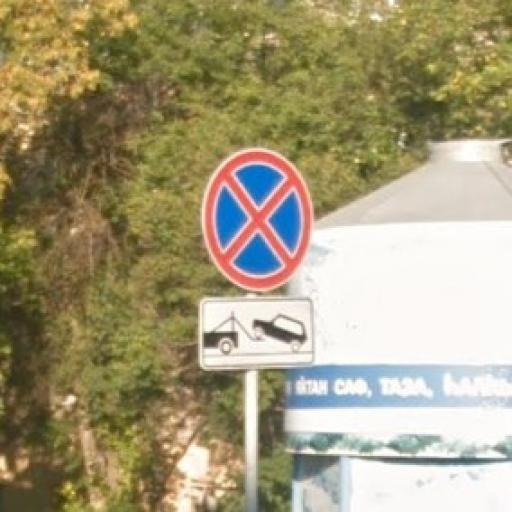traffic_sign: (200, 146, 317, 296)
